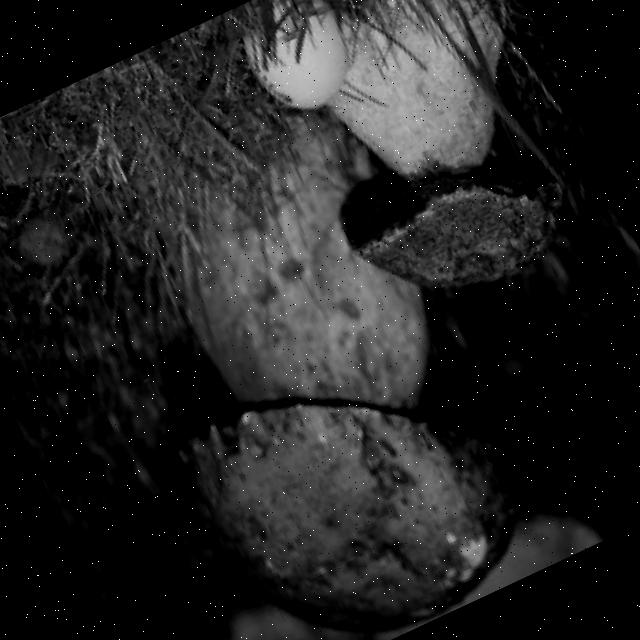ping-pong-ball: (226, 0, 370, 128)
